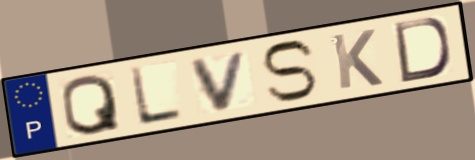D: (391, 16, 454, 86)
K: (328, 27, 386, 92)
L: (127, 65, 186, 128)
Q: (59, 72, 124, 137)
S: (258, 38, 320, 104)
V: (187, 48, 252, 114)
